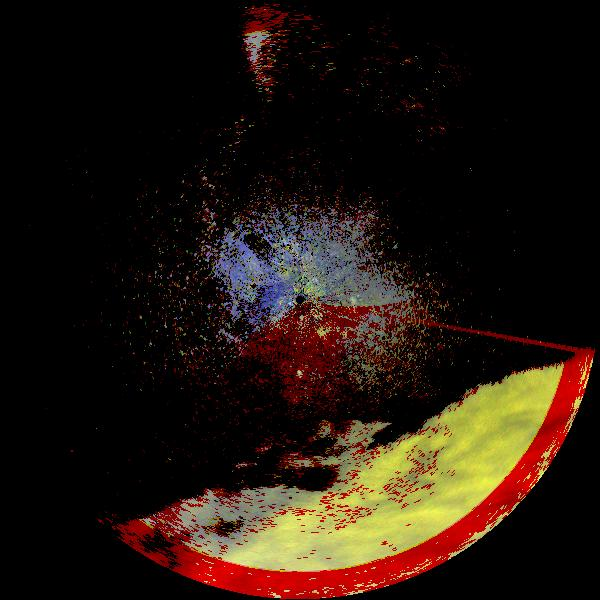roost: (326, 281, 377, 332)
